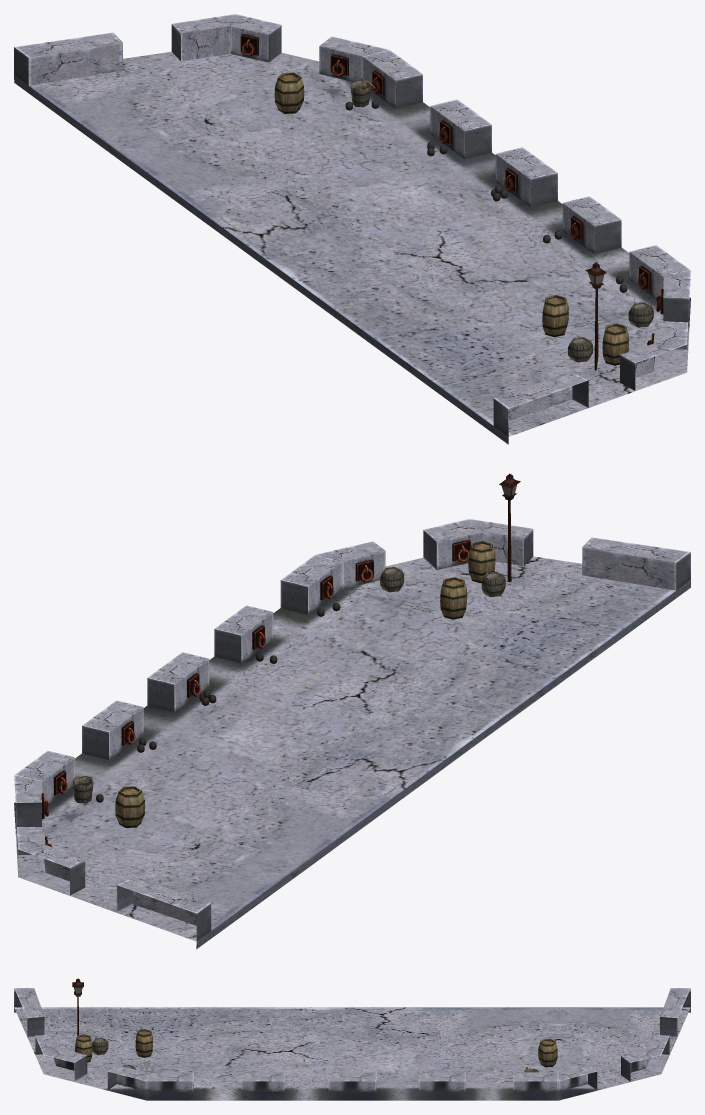
File: pir_m_gam_can_cannonOverlay_portRoyal.fbx
3 renders of one model, top to bottom at view 1: azimuth 30°, elevation 25°; view 2: azimuth 150°, elevation 25°; view 3: azimuth 270°, elevation 25°, orthographic. The views are drawn at different scales.
Visible parts, largest first — view 1: base, barrel_worn_1, barrel_worn_3, barrel_worn_2; view 2: base, barrel_worn_1, barrel_worn_3, barrel_worn_2; view 3: base, barrel_worn_1, barrel_worn_3, barrel_worn_2, barrel1.
Boxes of the visible parts, x1,y1,x2,y2 form: base: (14,14,690,444); barrel_worn_1: (274,72,304,113); barrel_worn_3: (542,295,568,337); barrel_worn_2: (602,323,628,365); base: (14,519,690,949); barrel_worn_1: (115,786,145,827); barrel_worn_3: (440,577,467,619); barrel_worn_2: (468,541,495,583); base: (14,988,690,1100); barrel_worn_1: (538,1038,557,1067); barrel_worn_3: (135,1029,153,1057); barrel_worn_2: (75,1034,92,1062); barrel1: (92,1037,108,1054).
Bounding box in the file's own units: 3690 × 1463 × 11318.
Materials: 3 (3 with a texture image).
